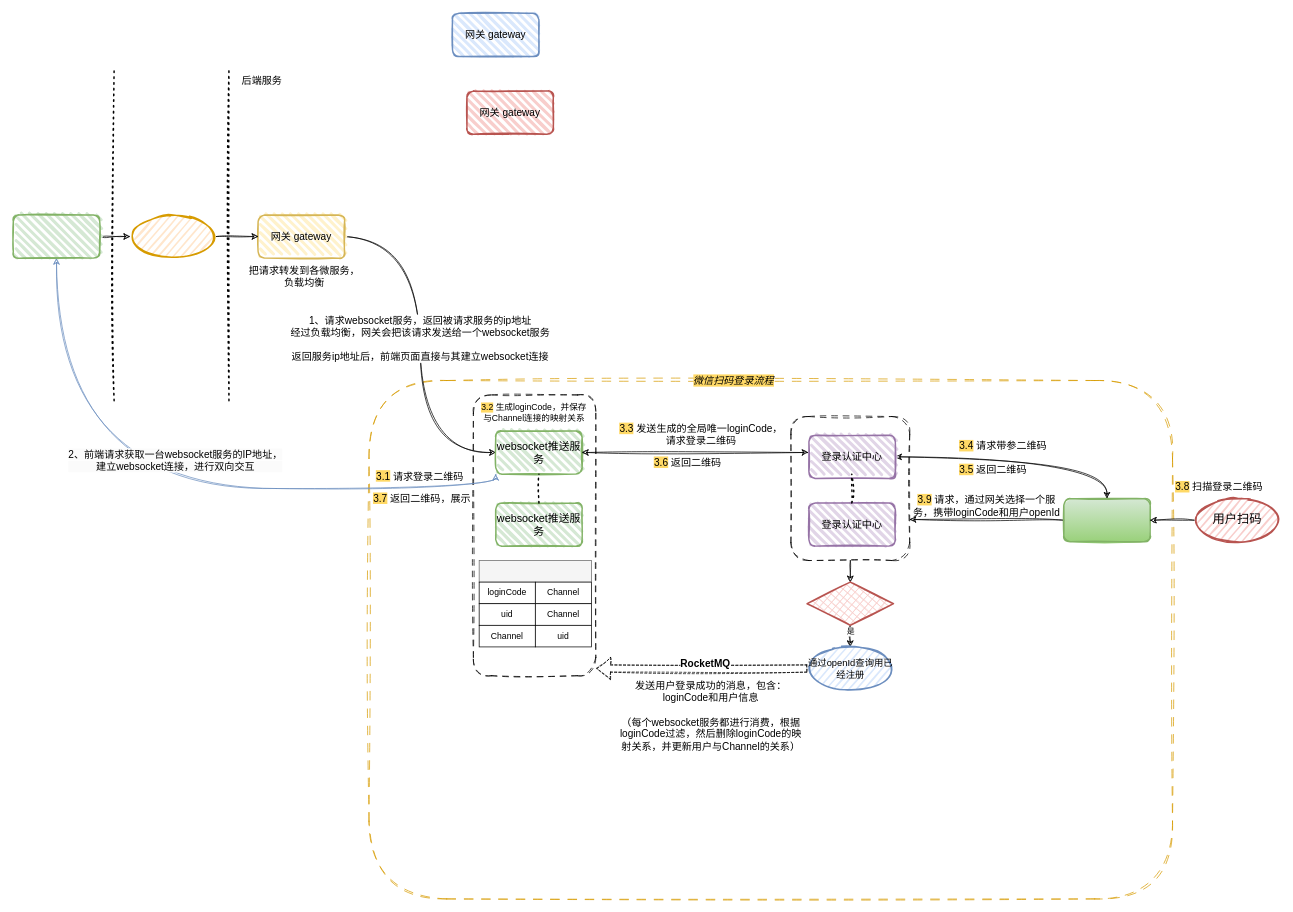
The diagram is 1293 pixels wide and 912 high, and some of its shapes have lost their labels. Here are the shapes that lost their labels. From the top down, the centre of each, then its label:
the point at 56,236: 前端页面（用户）
the point at 173,236: nginx反向代理
the point at 1107,520: 微信开放平台
the point at 534,571: 维护的映射关系
the point at 850,603: 3.10 是否注册？
